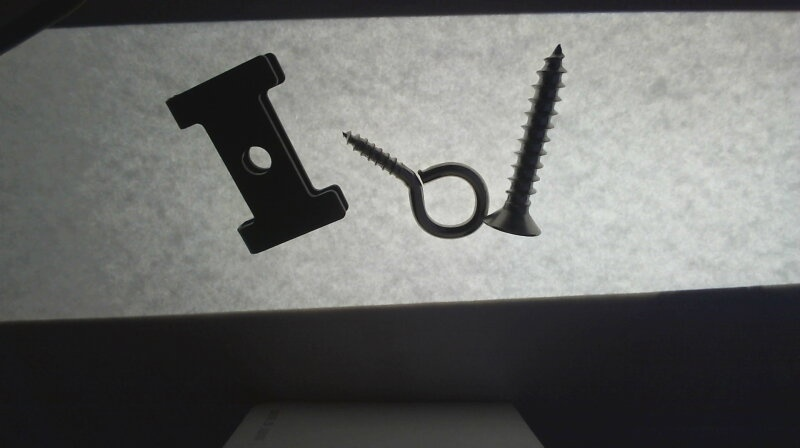O001: (341, 130, 490, 240)
O002: (162, 48, 350, 256)
S001: (481, 42, 569, 244)
